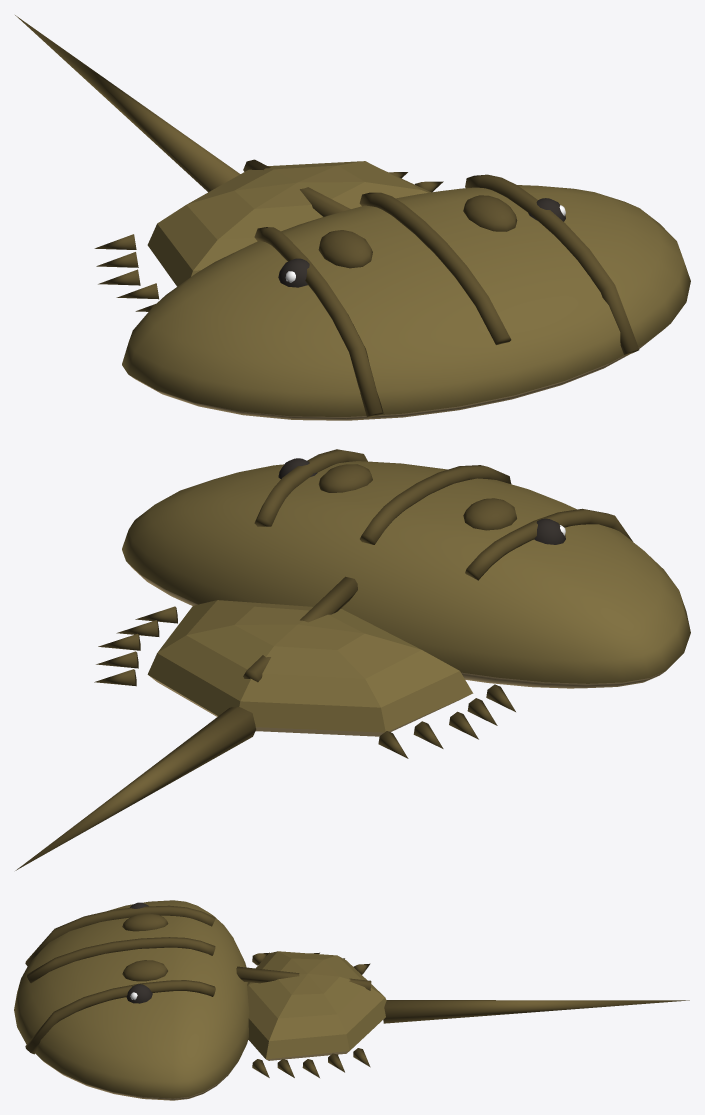
Rendered from sea-horseshoe-crab.glb.
The picture shows the model from 3 angles, top to bottom: view 1: azimuth 30°, elevation 25°; view 2: azimuth 150°, elevation 25°; view 3: azimuth 270°, elevation 25°; orthographic projection. The views are drawn at different scales.
Visible parts, largest first — view 1: horseshoe; view 2: horseshoe; view 3: horseshoe.
Boxes of the visible parts, box(x1,y1,x2,y2) form: horseshoe: box(15, 15, 690, 420); horseshoe: box(15, 449, 690, 870); horseshoe: box(14, 900, 689, 1100).
Bounding box in the file's own units: 0.3 × 0.0717 × 0.484.
